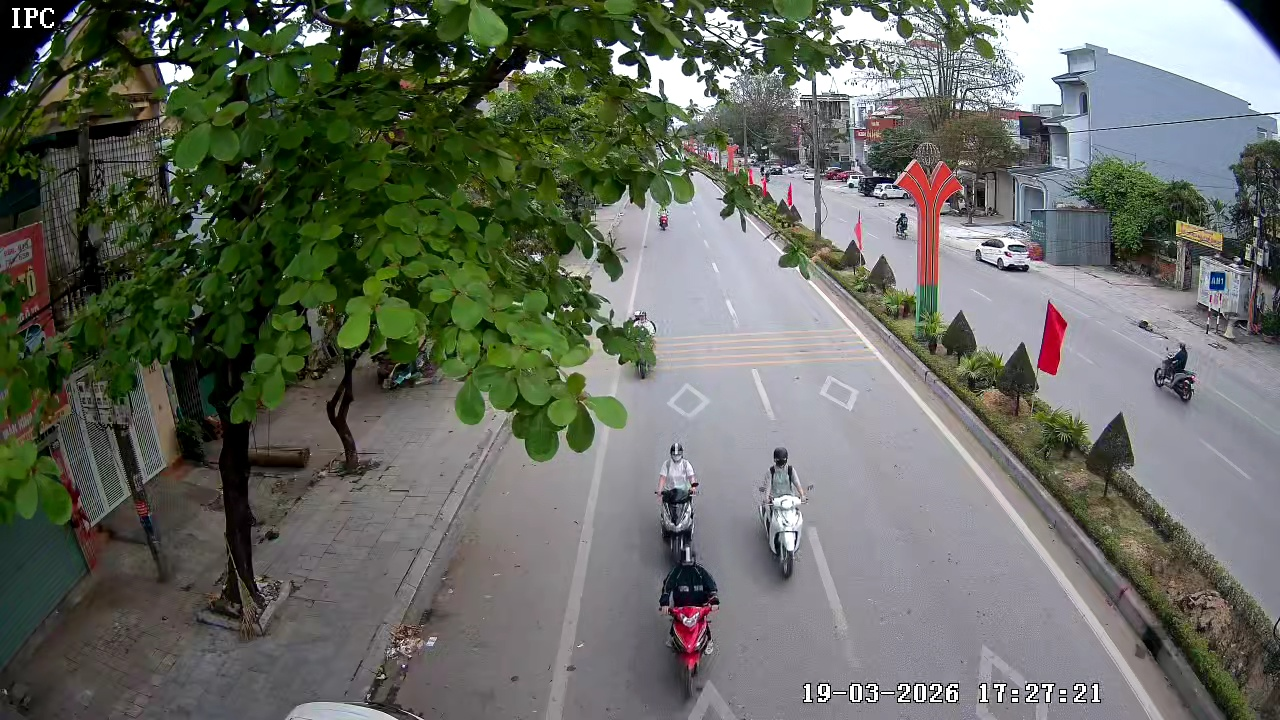bus: (1052, 40, 1099, 85)
car: (975, 227, 1037, 271)
motorbike: (655, 544, 723, 701), (756, 445, 812, 579), (653, 441, 702, 566), (617, 305, 660, 380), (1152, 341, 1199, 404), (656, 201, 671, 231)
